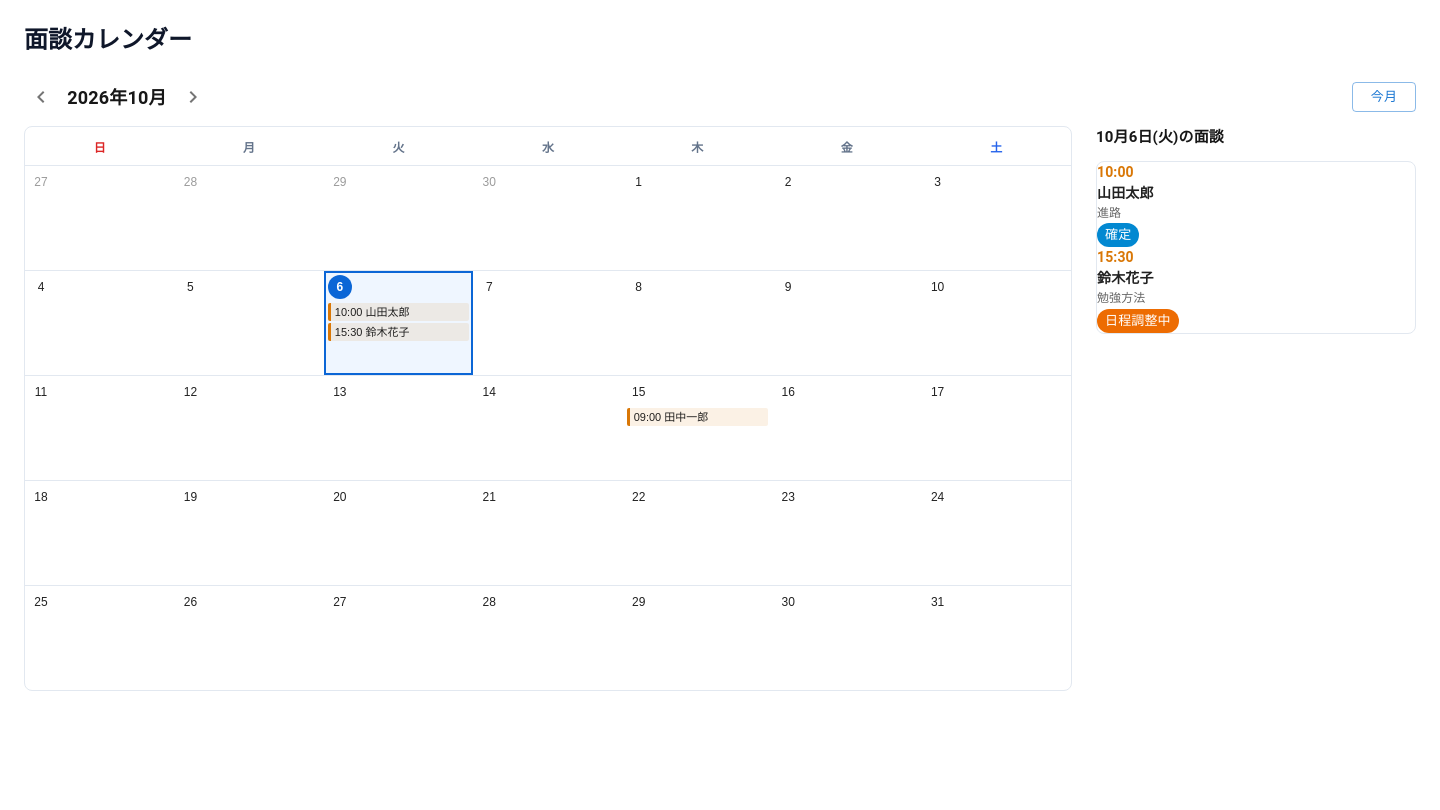
Test case: InterviewCalendarPresenter › 面談がない日は「面談の予定はありません」と表示される
What coordinates should you click on to do the following:
click the button named "10月7日 面談なし"
I would click on:
 (548, 323)
Its box is [473, 271, 623, 375].
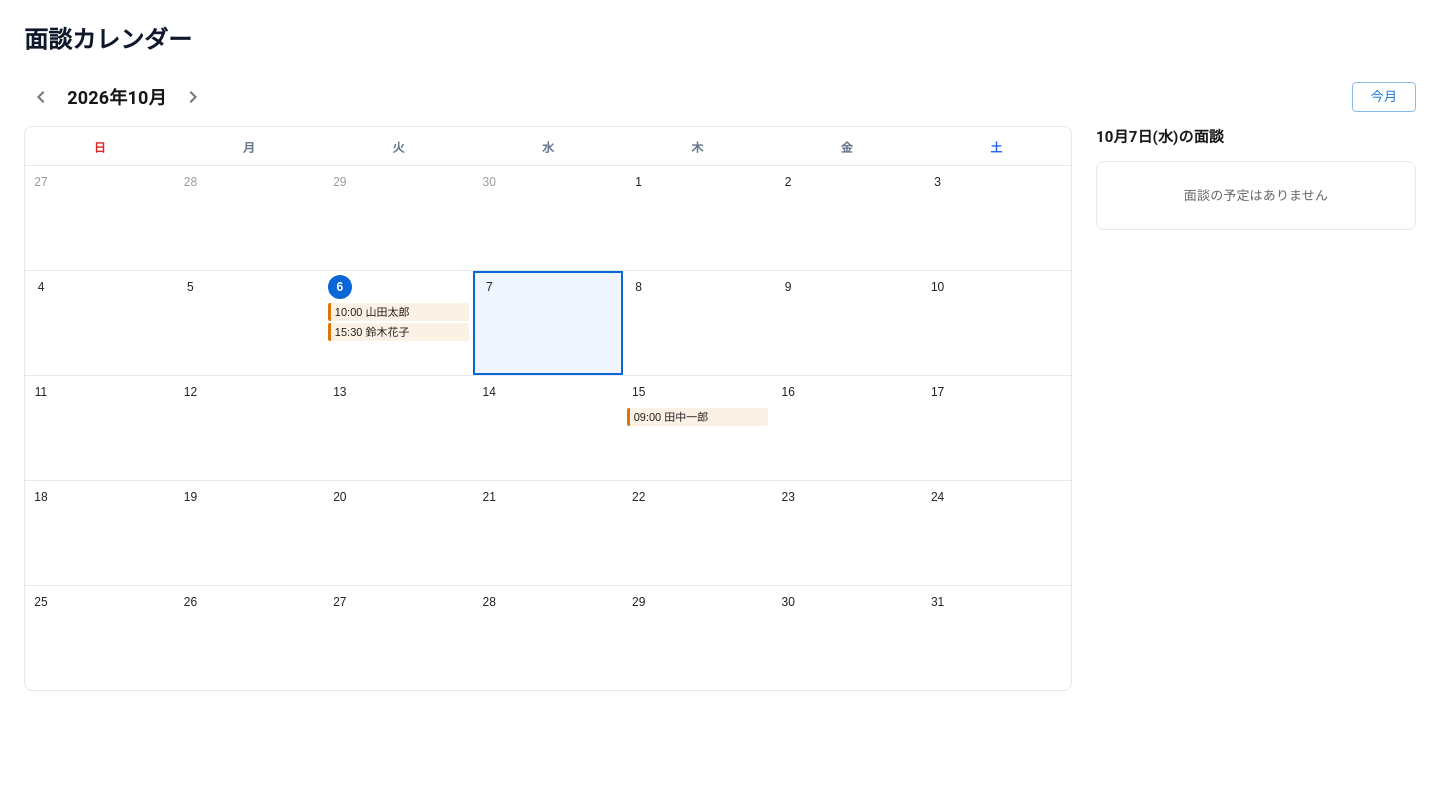
Expected: the text "面談の予定はありません" is shown, [1184, 186, 1328, 202]
